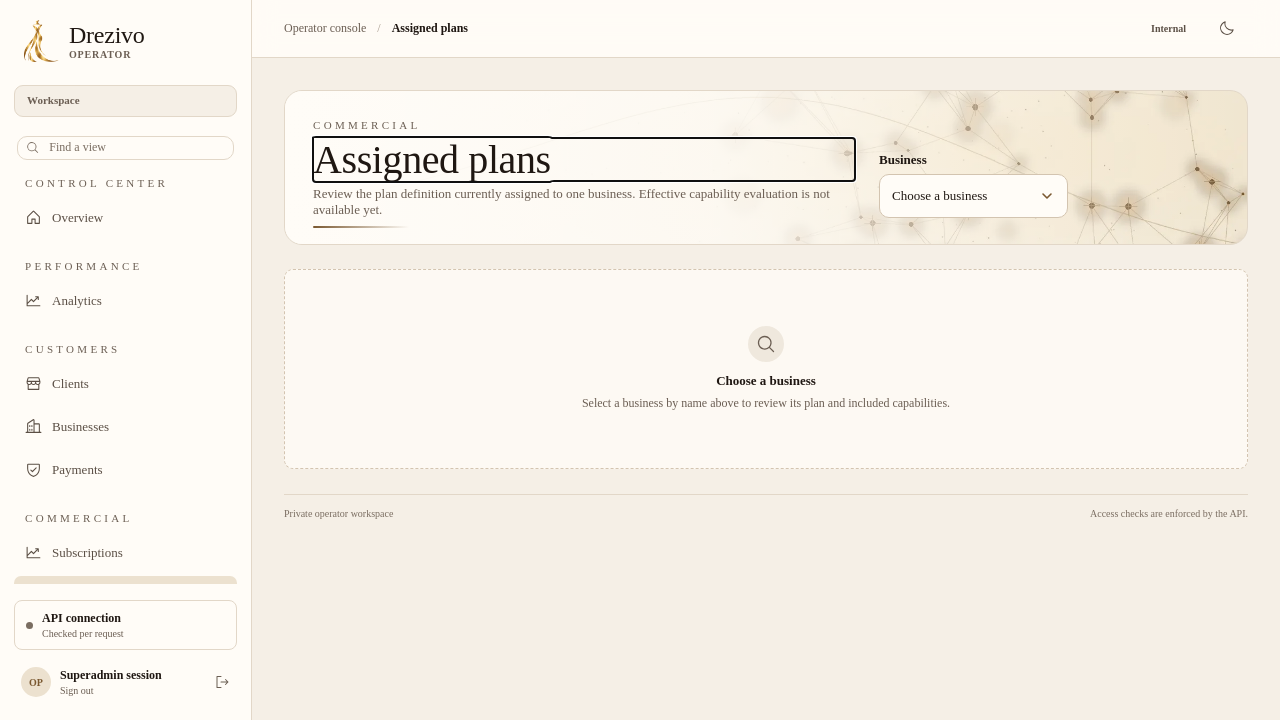
Test: App Router console pages › loads assigned plans by choosing a business name
Select "Local Luna · /s/local-luna" in the dropdown labelled "Business" at coordinates (974, 196), box [879, 174, 1068, 218]
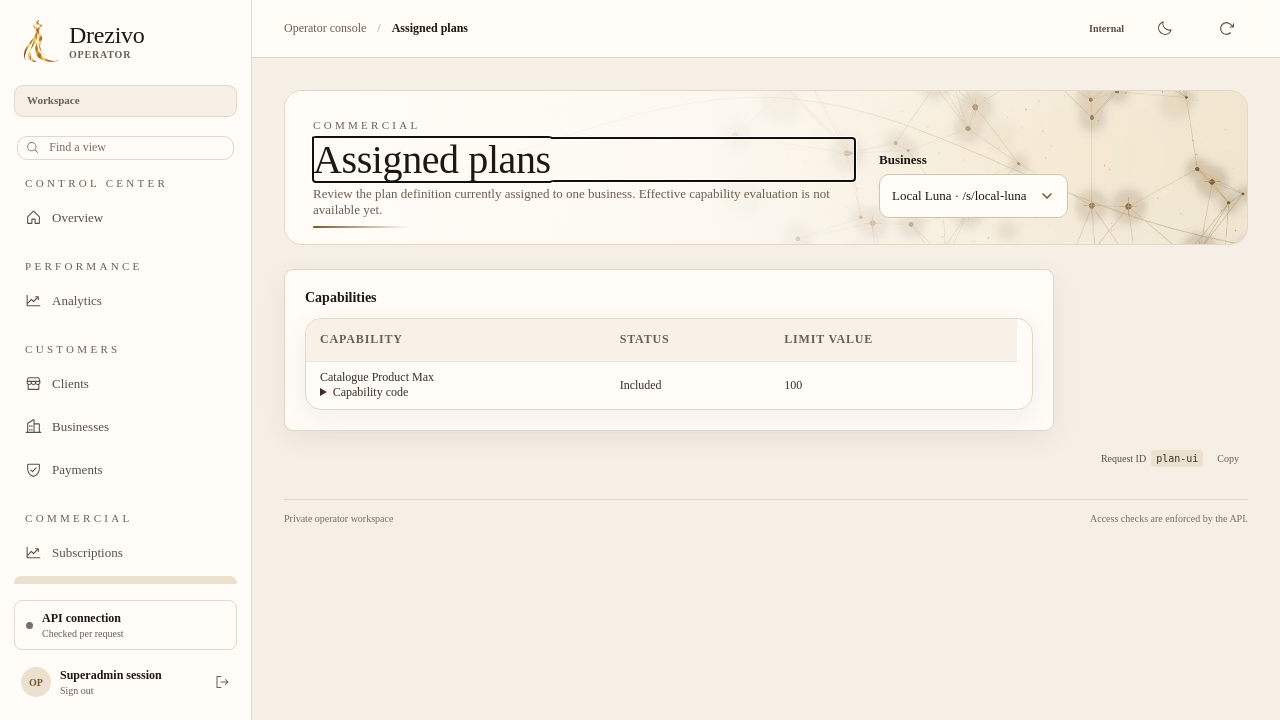
Now the text "Catalogue Product Max" is shown, box [320, 370, 434, 384]
